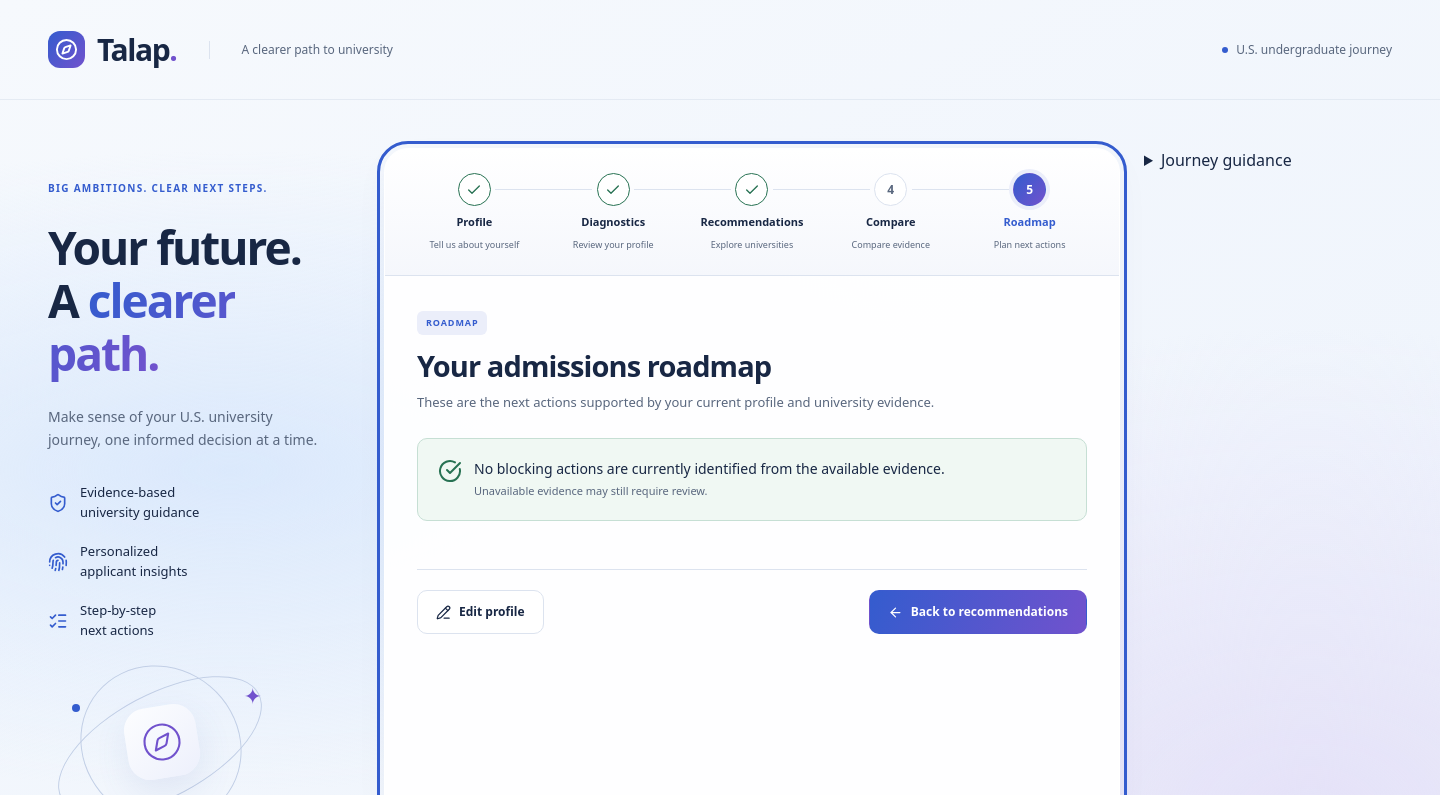
Test: responsive Talap journey › retains roadmap actions and makes contextual guidance expandable on compact screens
The width and height of the screenshot is (1440, 795).
Expected: the heading "No blocking actions are currently identified from the available evidence." is shown, [474,459,945,479]
Expected: the heading "Your admissions roadmap" is shown, [417,346,771,385]
Click the heading "Journey guidance" at point(1226, 160), box [1161,149,1292,171]
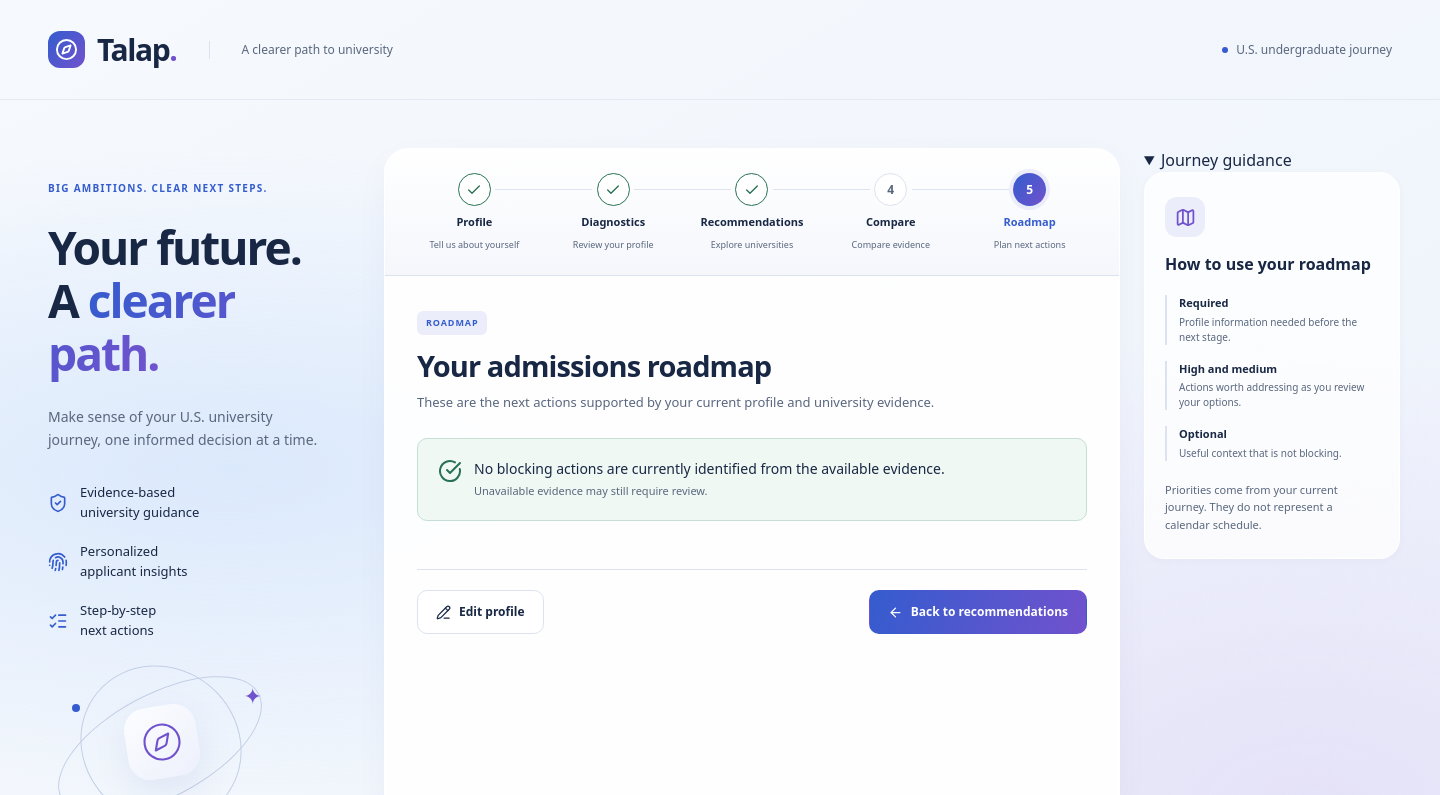
Result: the heading "How to use your roadmap" is shown at [1165,253,1379,275]
